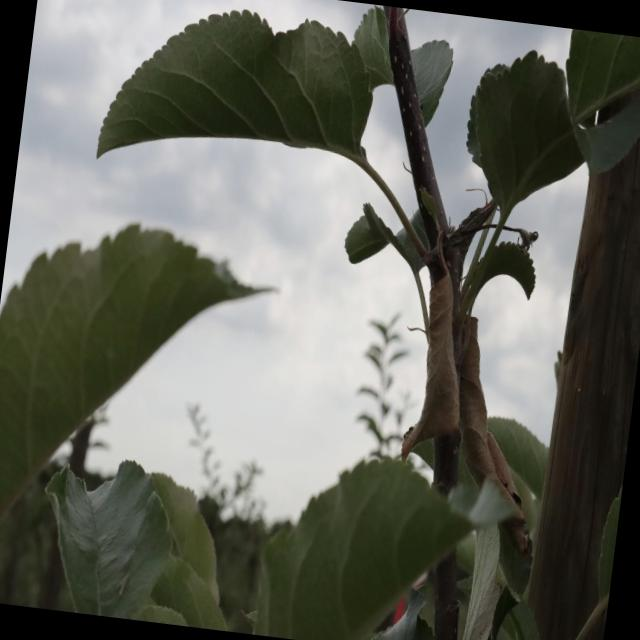-FireBlight-: (387, 228, 543, 553)
